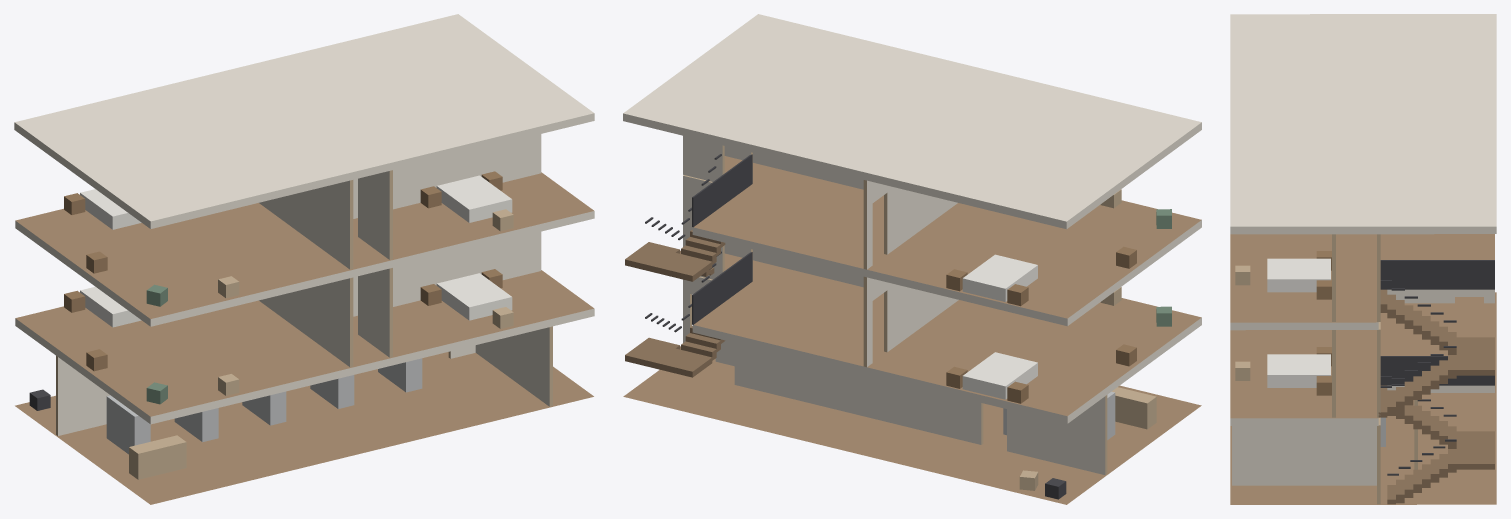
File: interior.glb
3 views of the same model, side by side, from view 1: azimuth 30°, elevation 25°; view 2: azimuth 150°, elevation 25°; view 3: azimuth 270°, elevation 25° (orthographic).
Visible parts, largest first — view 1: slabs, partitions, coarse-s0, coarse-s2, coarse-s1; view 2: slabs, partitions, stair, coarse-s1, coarse-s2, coarse-s0; view 3: slabs, stair, partitions, coarse-s2, coarse-s1.
Boxes of the visible parts, x1,y1,x2,y2 form: slabs: (14, 14, 594, 504); partitions: (56, 134, 552, 435); coarse-s0: (29, 358, 422, 479); coarse-s2: (64, 171, 513, 306); coarse-s1: (64, 269, 513, 404); slabs: (623, 14, 1201, 504); partitions: (683, 136, 1107, 475); stair: (625, 154, 752, 377); coarse-s1: (946, 287, 1171, 403); coarse-s2: (946, 189, 1171, 306); coarse-s0: (1003, 387, 1156, 499); slabs: (1230, 14, 1496, 504); stair: (1378, 260, 1494, 504); partitions: (1232, 234, 1494, 504); coarse-s2: (1235, 251, 1331, 299); coarse-s1: (1235, 347, 1331, 395).
Bounding box in the file's own units: 15.71 × 9.6 × 8.31.
